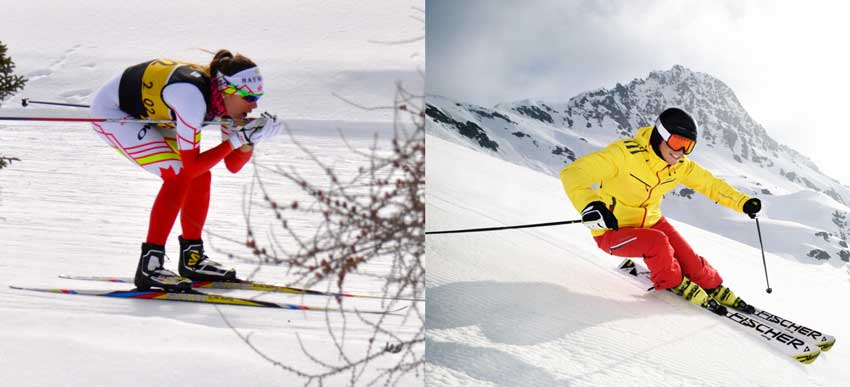skier: (518, 105, 832, 369), (55, 44, 335, 320)
